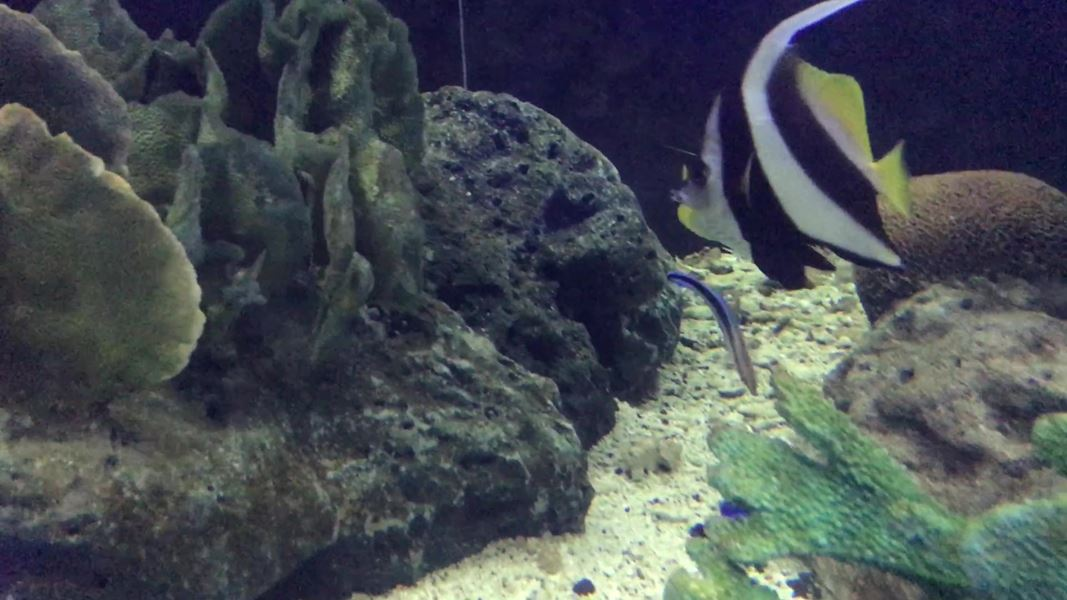Bluesteak cleaner wrasse: (652, 266, 769, 413)
